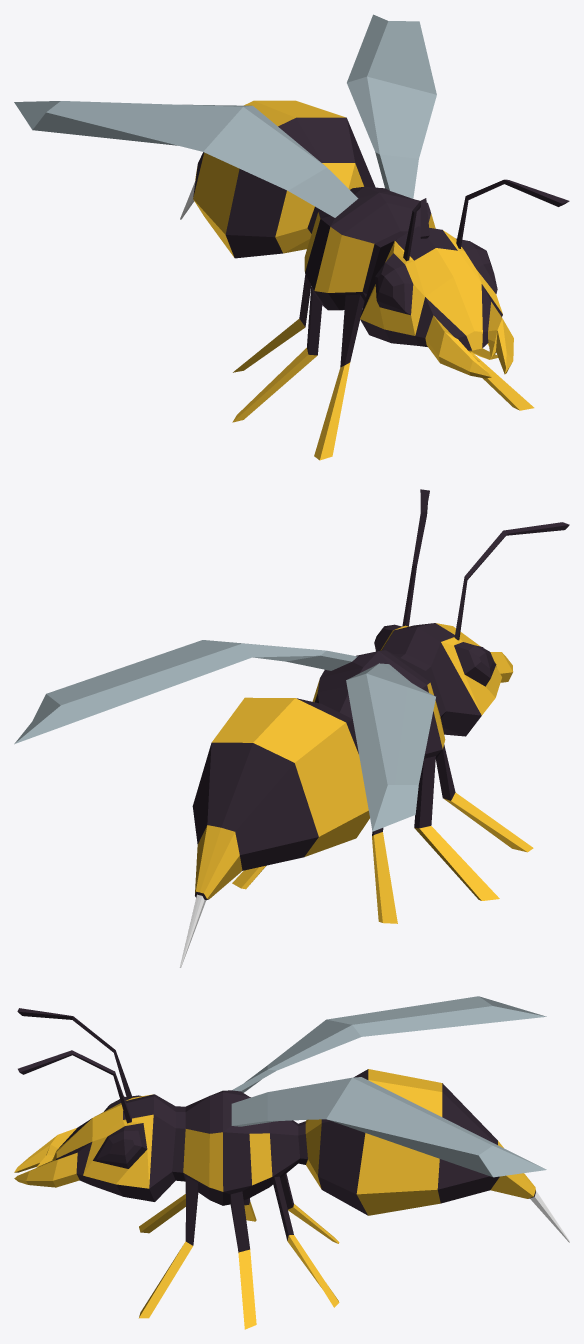
The model's file is Bee.fbx.
The picture shows the model from 3 angles, top to bottom: view 1: azimuth 30°, elevation 25°; view 2: azimuth 150°, elevation 25°; view 3: azimuth 270°, elevation 25°; orthographic projection. The views are drawn at different scales.
Parts seen in each view (by area): view 1: Bee; view 2: Bee; view 3: Bee.
Boxes of the visible parts, box(x1,y1,x2,y2) form: Bee: box(14, 14, 569, 460); Bee: box(14, 489, 569, 967); Bee: box(14, 996, 569, 1329).
Bounding box in the file's own units: 18.78 × 12.79 × 26.95.
